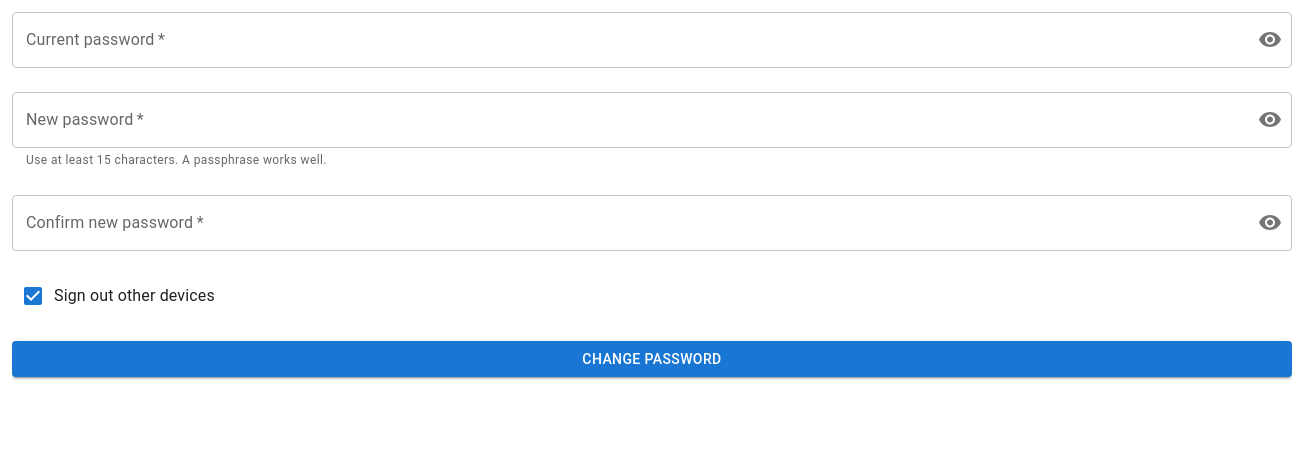
Scenario: customer change-password form › defaults to revoking other sessions and shows the rotated-session result
Expected: the checkbox labelled "Sign out other devices" is checked, x1=21 y1=284 x2=215 y2=308
Step 1. Type "A strong customer passphrase 2026" into the password field labelled "Current password *" → [627, 40], box x1=12 y1=12 x2=1242 y2=68
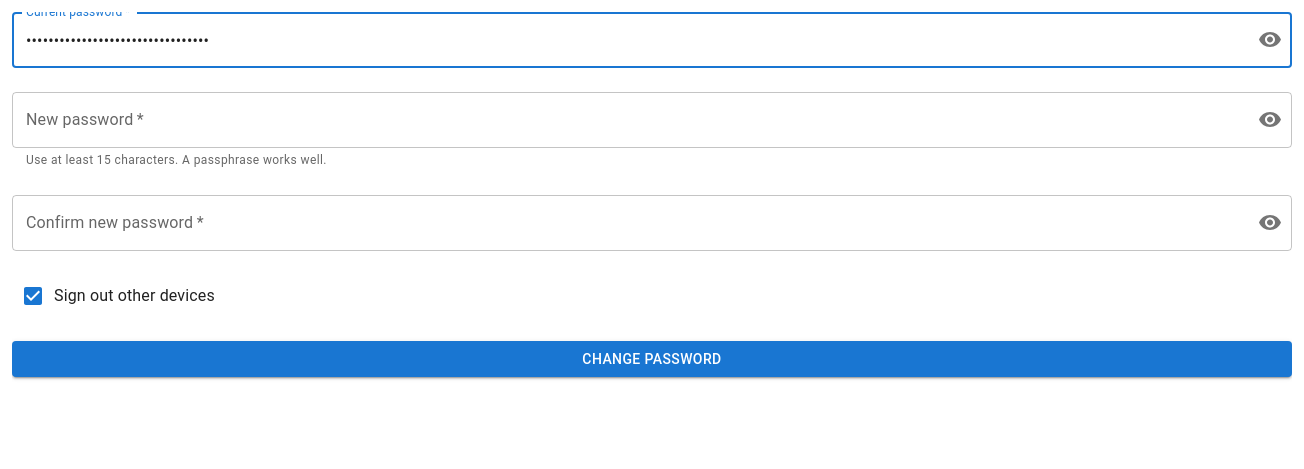
Step 2. Type "A different secure passphrase 2026" into the password field labelled "New password *" → [627, 120], box x1=12 y1=92 x2=1242 y2=148
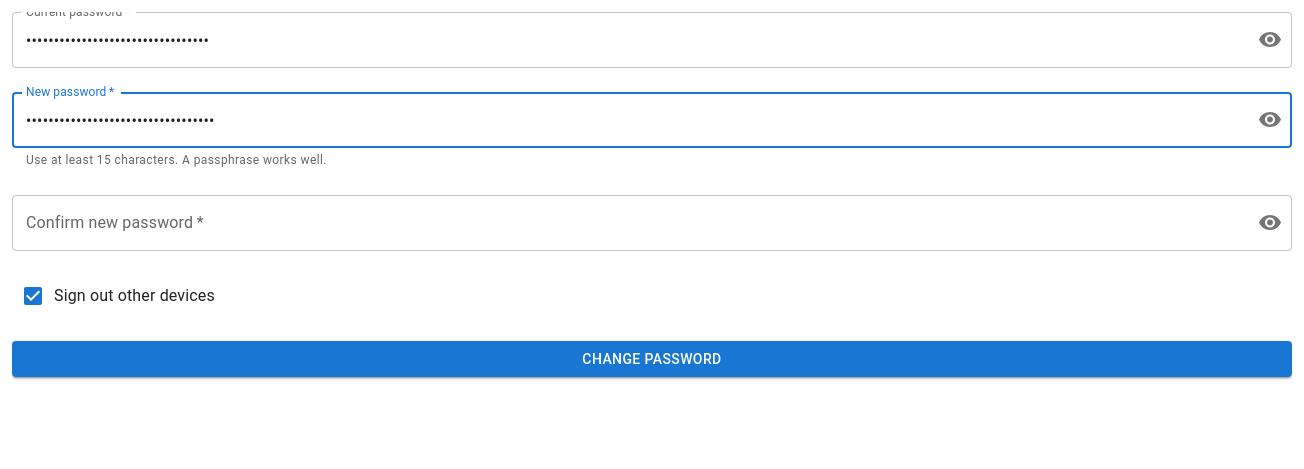
Step 3. Type "A different secure passphrase 2026" into the password field labelled "Confirm new password *" → [627, 223], box x1=12 y1=195 x2=1242 y2=251
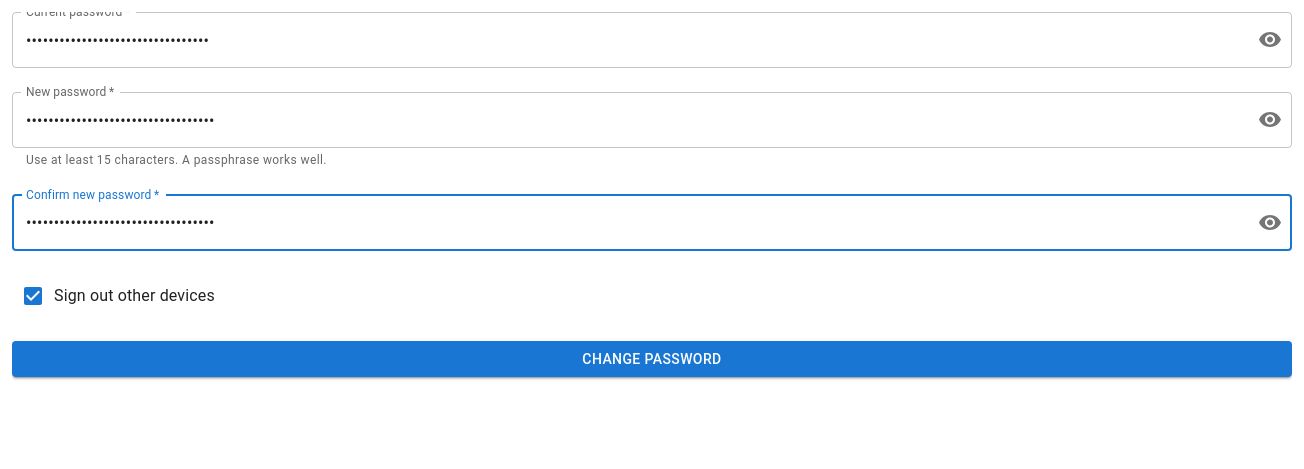
Step 4. Click the button "Change password" → [652, 359], box x1=12 y1=341 x2=1292 y2=377
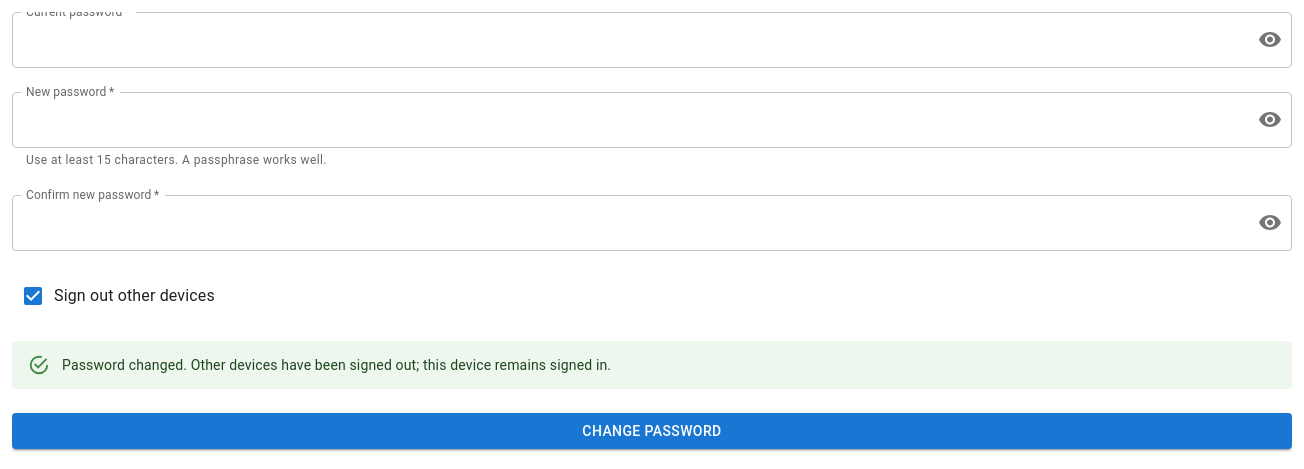
Now the message shows "Other devices have been signed out", box x1=62 y1=357 x2=611 y2=373
